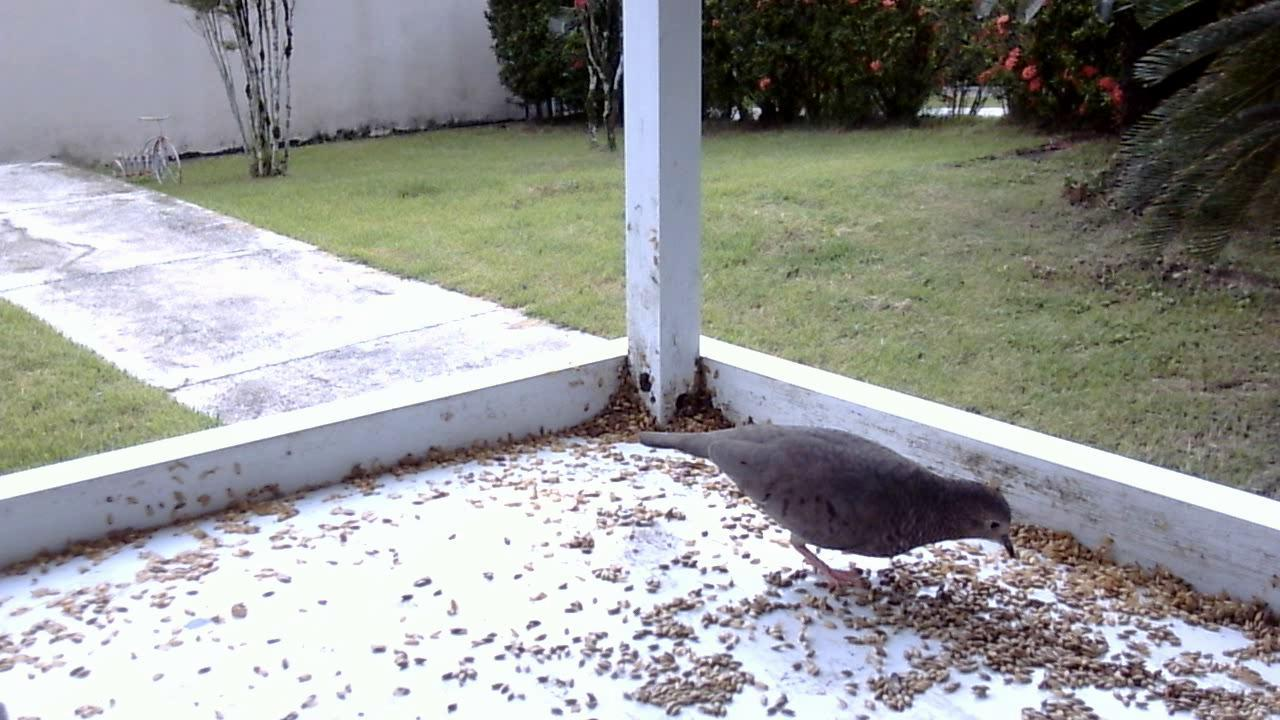rolinha: (628, 415, 1018, 603)
